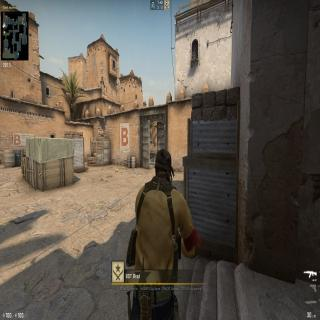T-Head: (153, 146, 174, 186)
